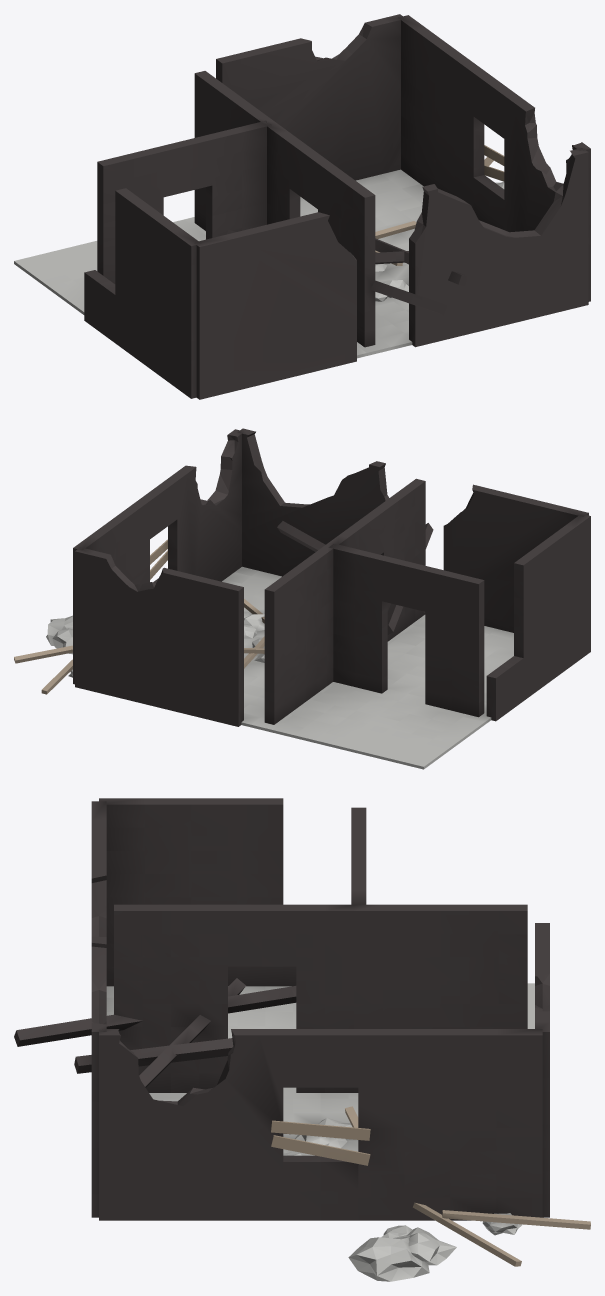
Rendered from casa_r6.glb.
3 views of the same model, one above another, from view 1: azimuth 30°, elevation 25°; view 2: azimuth 150°, elevation 25°; view 3: azimuth 270°, elevation 25° (orthographic). The views are drawn at different scales.
Visible parts, largest first — view 1: ext0_0, ext0_1, ext0_2, ext0_3, int_1, int_0, chao, viga_queimada_0, entulho, viga_queimada_2; view 2: ext0_2, ext0_0, int_1, chao, int_0, ext0_1, ext0_3, entulho_fora, entulho, viga_queimada_1, viga_queimada_0; view 3: ext0_1, int_0, ext0_3, entulho_fora, ext0_0, chao, ext0_2, viga_queimada_0, ext0_1_tabua_32, viga_queimada_2, int_1, viga_queimada_1 (+1 smaller).
Part boxes in pixels (box(x1,y1,x2,y2)): ext0_0: box(194, 148, 588, 399); ext0_1: box(398, 15, 590, 301); ext0_2: box(216, 14, 403, 180); ext0_3: box(84, 188, 201, 398); int_1: box(97, 120, 271, 283); int_0: box(194, 71, 375, 347); chao: box(14, 169, 423, 358); viga_queimada_0: box(227, 230, 446, 315); entulho: box(375, 221, 416, 301); viga_queimada_2: box(375, 238, 467, 285); ext0_2: box(75, 547, 243, 726); ext0_0: box(237, 428, 588, 632); int_1: box(328, 543, 484, 717); chao: box(222, 566, 513, 769); int_0: box(264, 478, 425, 724); ext0_1: box(73, 429, 241, 684); ext0_3: box(486, 515, 590, 721); entulho_fora: box(14, 615, 72, 694); entulho: box(244, 599, 264, 668); viga_queimada_1: box(277, 521, 424, 612); viga_queimada_0: box(387, 523, 433, 634); ext0_1: box(99, 1029, 542, 1220); int_0: box(114, 904, 527, 1092); ext0_3: box(99, 798, 296, 986); entulho_fora: box(348, 1202, 590, 1281); ext0_0: box(91, 801, 106, 1217); chao: box(106, 983, 534, 1155); ext0_2: box(535, 923, 549, 1217); viga_queimada_0: box(14, 986, 296, 1046); ext0_1_tabua_32: box(271, 1120, 370, 1165); viga_queimada_2: box(74, 1038, 233, 1073); int_1: box(351, 807, 366, 904); viga_queimada_1: box(139, 978, 245, 1087).
Size of what is drawn, in the model's own units: 10.14 by 3.27 by 8.46.
